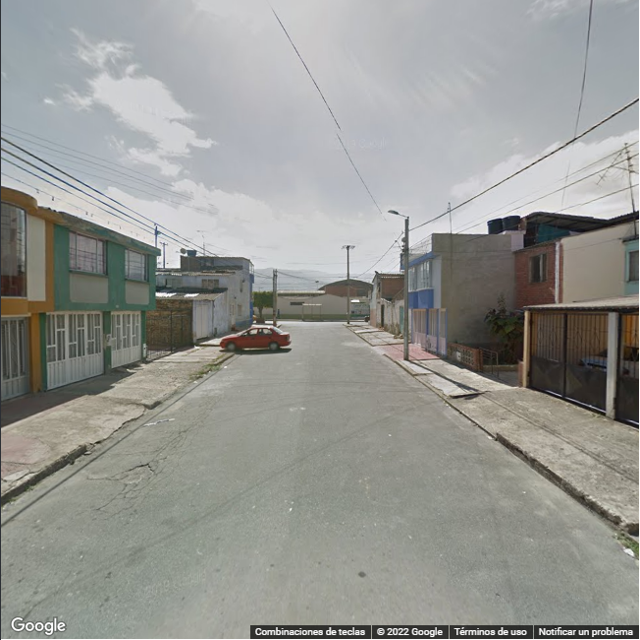D00: (93, 493, 122, 517), (132, 493, 148, 520)
D40: (119, 457, 155, 486)
